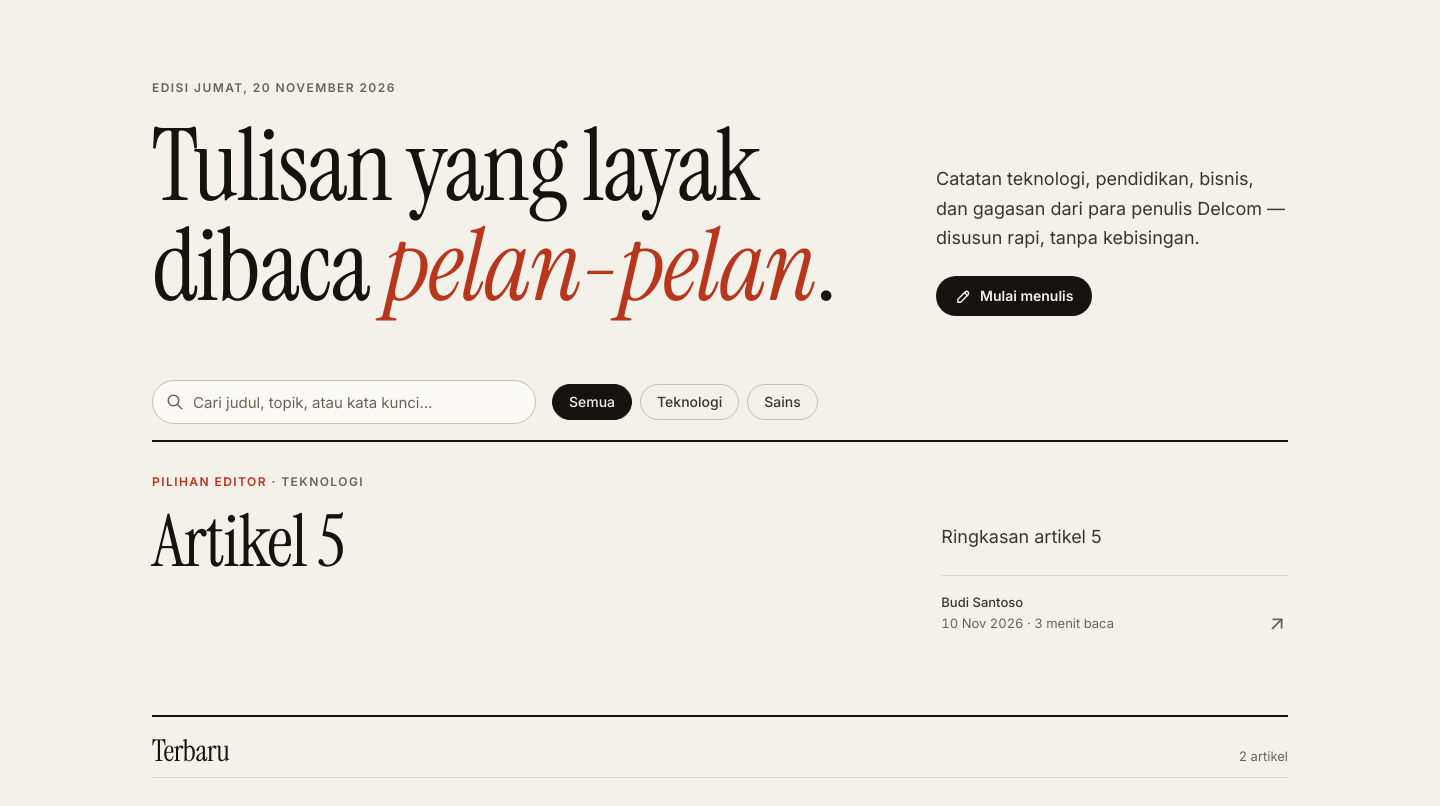
Test: PublicArticleList › filters by category and debounced search, then resets an empty result
The image size is (1440, 806).
Expected: the heading "Terbaru" is shown, [152,732,229,768]
Click the button "Teknologi" at (690, 402), box [640,384,739,420]
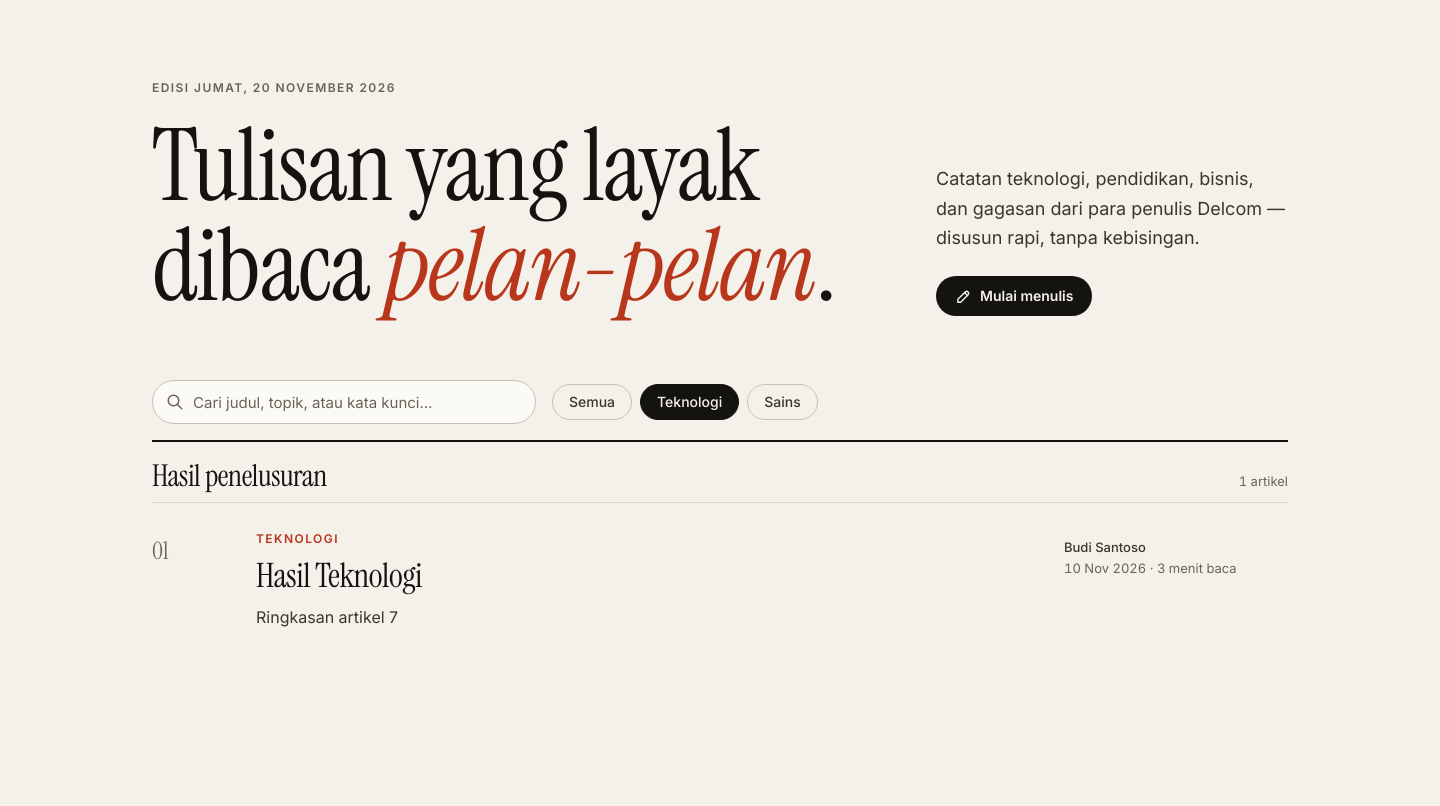
Expected: the heading "Hasil penelusuran" is shown, [152,458,327,494]
Expected: the text "01" is shown, [152,535,168,566]
Type "  zzz  " into the search field named "Cari artikel" at (344, 402), box [152,380,536,424]
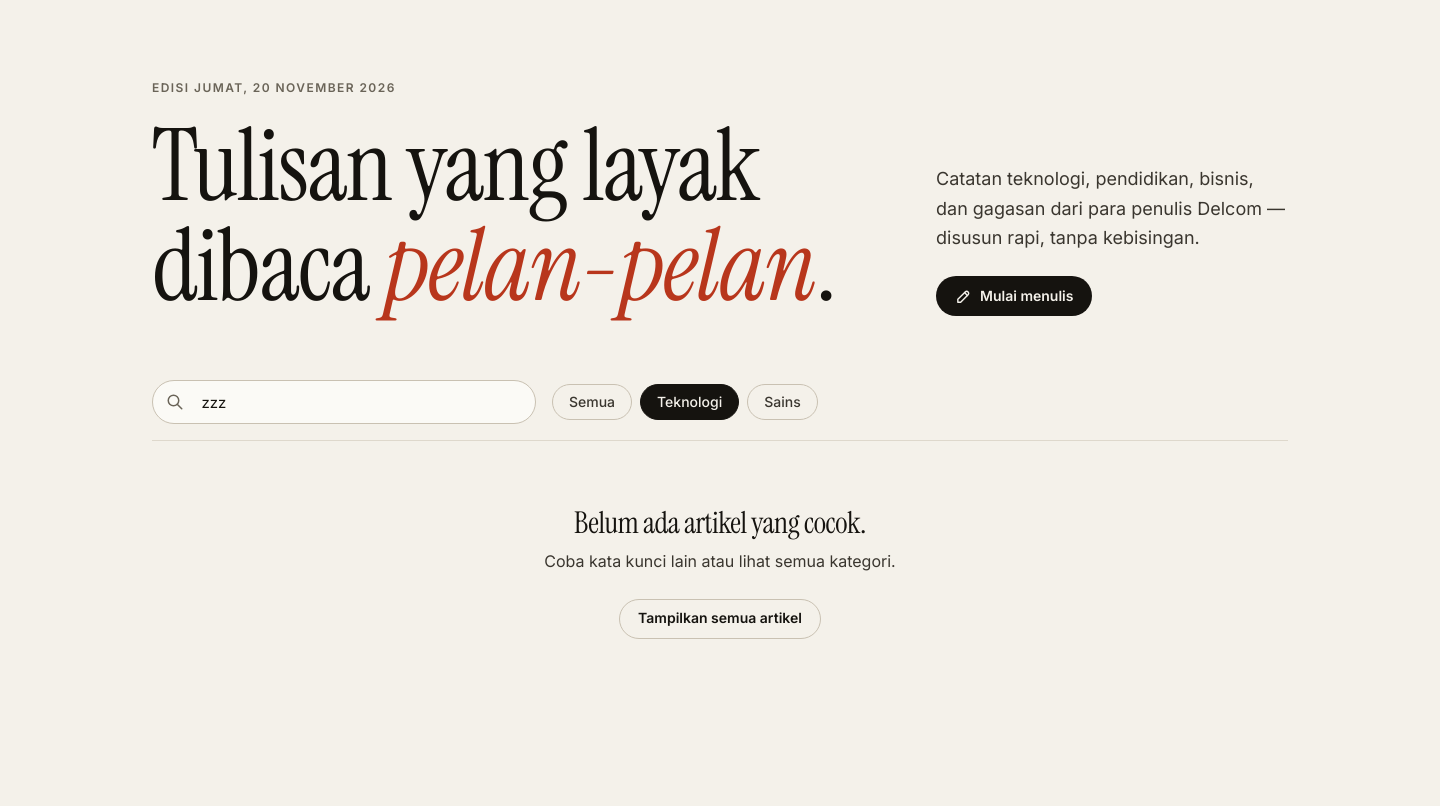
Expected: the text "Belum ada artikel yang cocok." is shown, [574,503,866,542]
Click the button "Tampilkan semua artikel" at (720, 619), box [619,599,821,639]
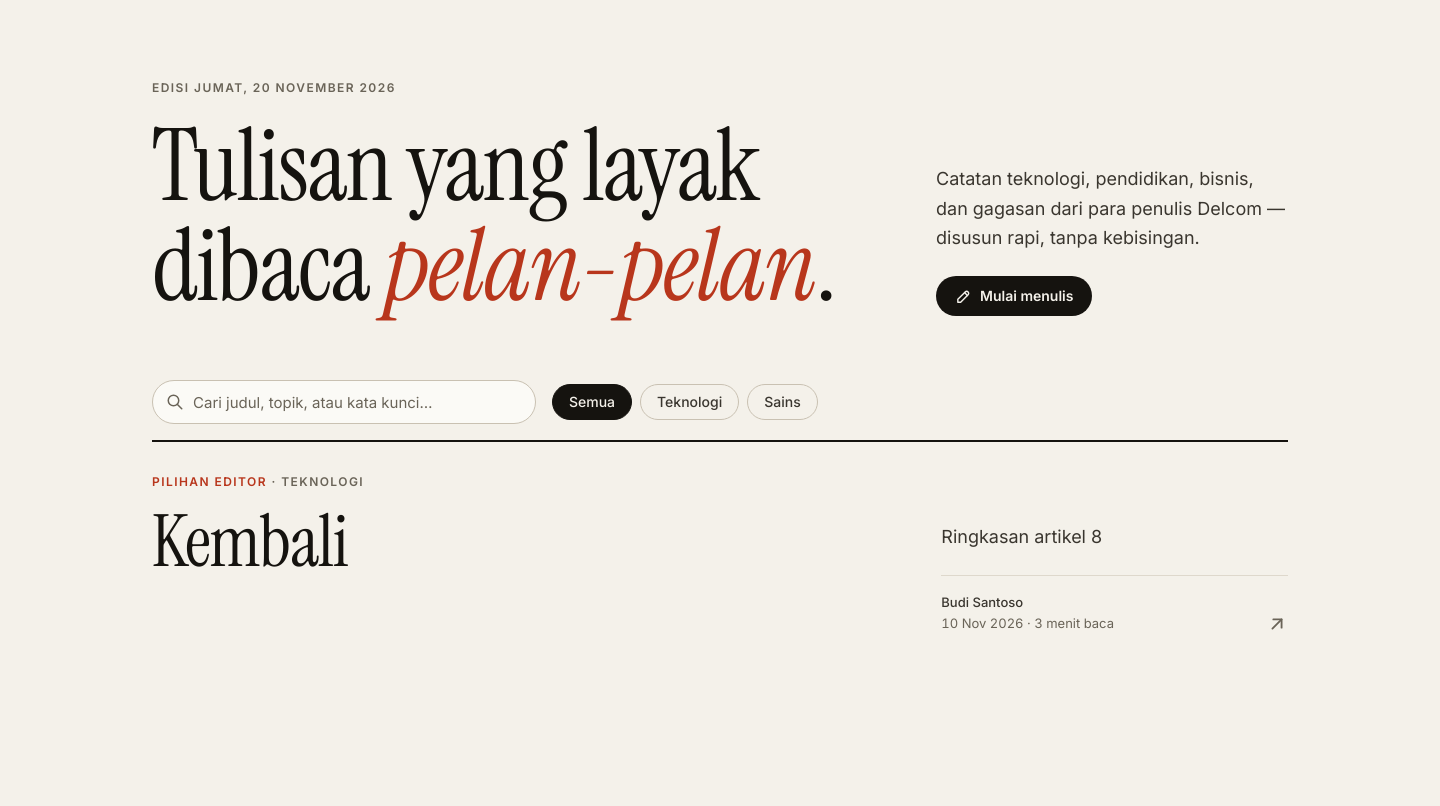
Expected: the heading "Kembali" is shown, [152,495,348,588]
Expected: the search field named "Cari artikel" is empty, [152,380,536,424]
